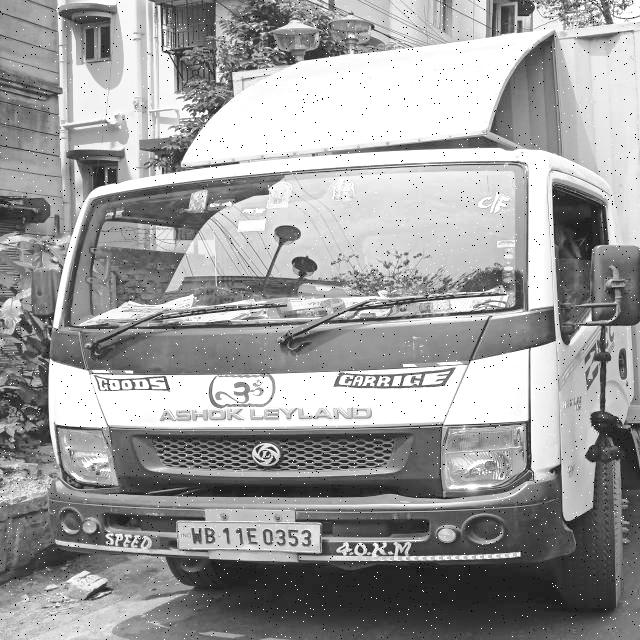HCV: (60, 129, 640, 640)
